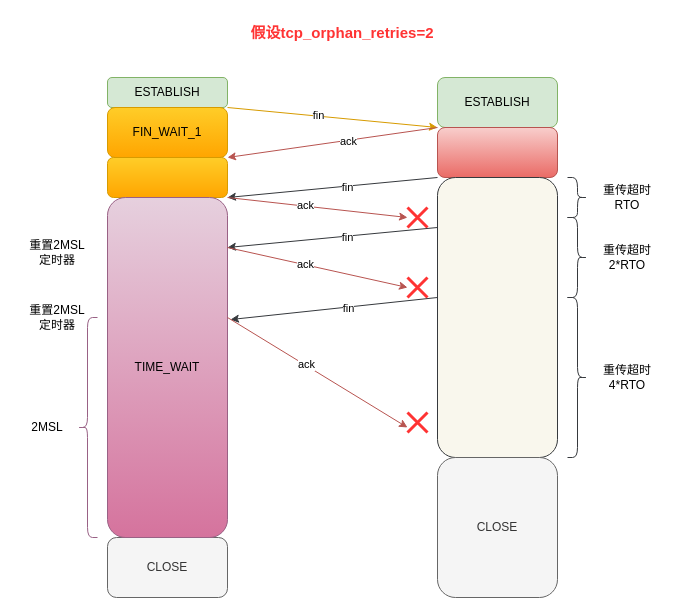
The diagram is 674 pixels wide and 615 high, and some of its shapes have lost their labels. Each missing label, with the centre of its shape:
"CLOSE_WAIT" goes at (497,152).
"FIN_WAIT_2" goes at (167,177).
"LAST_ACK" goes at (497,317).
